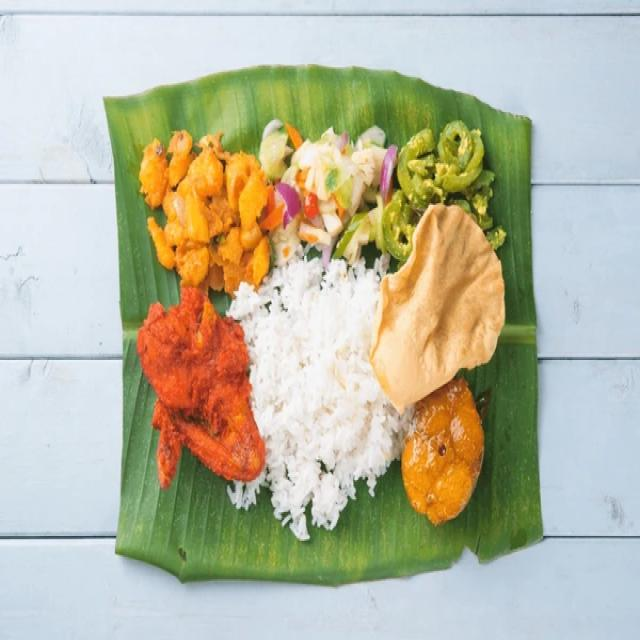CHICKEN FRY: (131, 294, 255, 558)
CURRY: (136, 132, 270, 297)
PAPADAM: (375, 202, 503, 411)
RICE: (245, 252, 395, 558)
SWEET: (408, 382, 500, 527)
VEGGIES: (385, 116, 525, 268), (266, 129, 395, 257)
